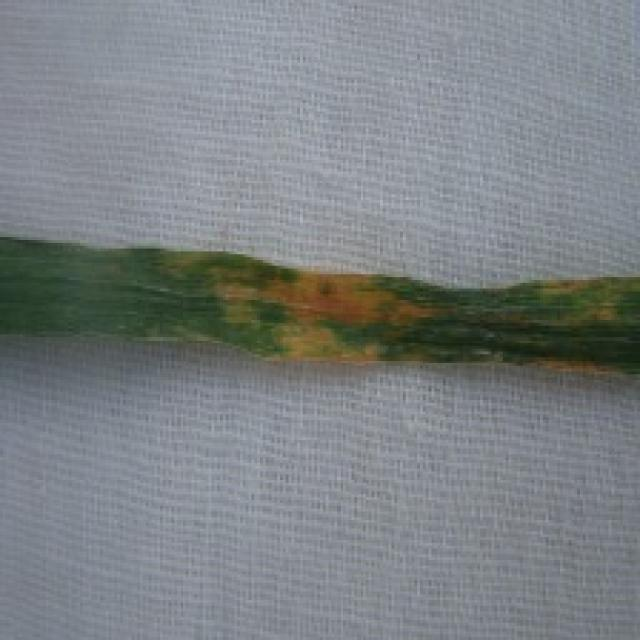Bacterial_Blight: (152, 251, 440, 375), (513, 270, 632, 378)
